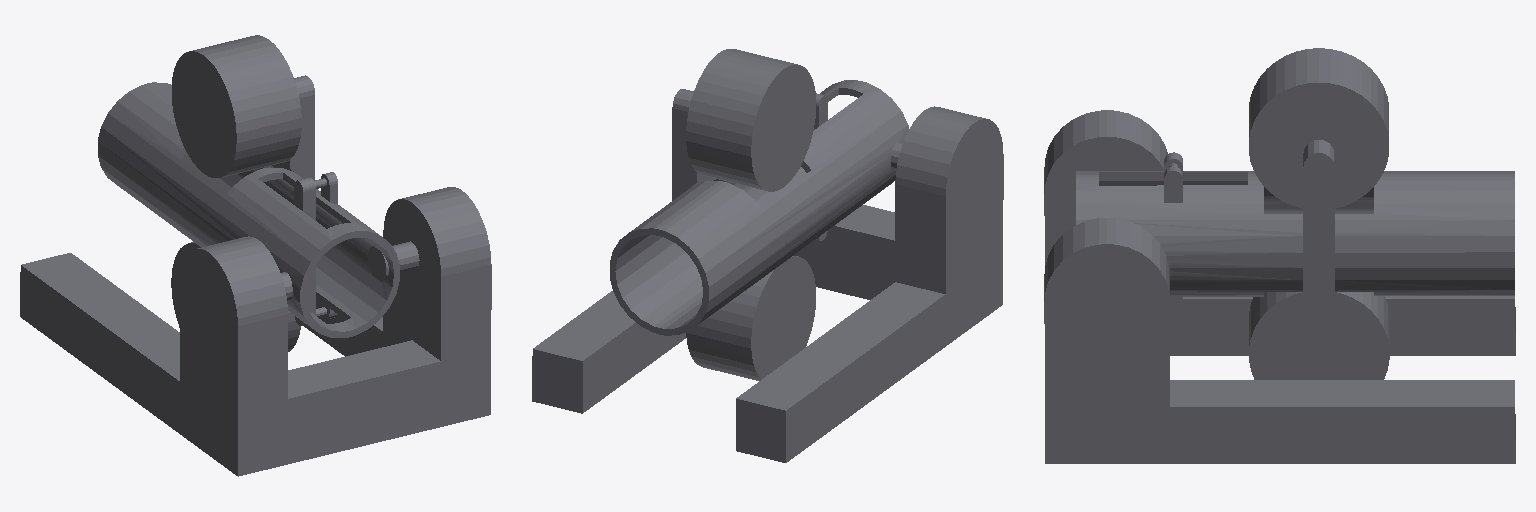
URDF robot description (tennisbot_support):
<?xml version="1.0" encoding="utf-8"?>
<!-- This URDF was automatically created by SolidWorks to URDF Exporter! Originally created by [author] ([email redacted]) 
     Commit Version: 1.6.0-1-g15f4949  Build Version: 1.6.7594.29634
     For more information, please see http://wiki.ros.org/sw_urdf_exporter -->
<robot
  name="tennisbot_support">

  <link name="base_footprint"/>

  <joint name="base_joint" type="fixed">
    <parent link="base_footprint"/>
    <child link="base_link"/>
    <origin xyz="0.0 0.0 -0.162692660283703" rpy="-1.57 0 0"/>
  </joint>

  <link
    name="base_link">
    <inertial>
      <origin
        xyz="0.104659789395195 -0.196207572672501 0.162692660283703"
        rpy="0 0 0" />
      <mass
        value="1.15520000000003" />
      <inertia
        ixx="0.0101215048568796"
        ixy="5.16525795195962E-17"
        ixz="-1.00415010343757E-15"
        iyy="0.0166361512568799"
        iyz="-8.8233065927587E-17"
        izz="0.00682269973333366" />
    </inertial>
    <visual>
      <origin
        xyz="0 0 0"
        rpy="0 0 0" />
      <geometry>
        <mesh
          filename="package://tennisbot_support/meshes/base_link.STL" />
      </geometry>
      <material
        name="">
        <color
          rgba="0.494117647058824 0.494117647058824 0.525490196078431 1" />
      </material>
    </visual>
    <collision>
      <origin
        xyz="0 0 0"
        rpy="0 0 0" />
      <geometry>
        <mesh
          filename="package://tennisbot_support/meshes/base_link.STL" />
      </geometry>
    </collision>
  </link>
  <link
    name="mount_link">
    <inertial>
      <origin
        xyz="4.7805584491023E-10 1.61652830010794E-10 4.26778057338595E-11"
        rpy="0 0 0" />
      <mass
        value="0.744243099298161" />
      <inertia
        ixx="0.00113617129627213"
        ixy="-5.31586880855191E-09"
        ixz="5.94695384178492E-10"
        iyy="0.00541459267764306"
        iyz="4.45684694076088E-05"
        izz="0.00499820875614038" />
    </inertial>
    <visual>
      <origin
        xyz="0 0 0"
        rpy="0 0 0" />
      <geometry>
        <mesh
          filename="package://tennisbot_support/meshes/mount_link.STL" />
      </geometry>
      <material
        name="">
        <color
          rgba="0.494117647058824 0.494117647058824 0.525490196078431 1" />
      </material>
    </visual>
    <collision>
      <origin
        xyz="0 0 0"
        rpy="0 0 0" />
      <geometry>
        <mesh
          filename="package://tennisbot_support/meshes/mount_link.STL" />
      </geometry>
    </collision>
  </link>
  <joint
    name="mount_joint"
    type="fixed">
    <origin
      xyz="0.104659809442308 -0.266871907624069 0.0733480237700171"
      rpy="-1.5707963267949 0 -3.14159265358979" />
    <parent
      link="base_link" />
    <child
      link="mount_link" />
    <axis
      xyz="0 0 0" />
  </joint>
  <link
    name="pipe_link">
    <inertial>
      <origin
        xyz="0.00896336722335153 0.125428985340103 6.43253882881556E-07"
        rpy="0 0 0" />
      <mass
        value="0.33490980168325" />
      <inertia
        ixx="0.00233036766489112"
        ixy="-2.23683208598698E-05"
        ixz="3.26297088153394E-08"
        iyy="0.000666584643212901"
        iyz="-2.27417937656625E-09"
        izz="0.00231739505538052" />
    </inertial>
    <visual>
      <origin
        xyz="0 0 0"
        rpy="0 0 0" />
      <geometry>
        <mesh
          filename="package://tennisbot_support/meshes/pipe_link.STL" />
      </geometry>
      <material
        name="">
        <color
          rgba="0.494117647058824 0.494117647058824 0.525490196078431 1" />
      </material>
    </visual>
    <collision>
      <origin
        xyz="0 0 0"
        rpy="0 0 0" />
      <geometry>
        <mesh
          filename="package://tennisbot_support/meshes/pipe_link.STL" />
      </geometry>
    </collision>
  </link>
  <joint
    name="pipe_joint"
    type="continuous">
    <origin
      xyz="0 -0.00131139551645104 0.0238356650484354"
      rpy="0 0 3.14159265358979" />
    <parent
      link="mount_link" />
    <child
      link="pipe_link" />
    <axis
      xyz="1 0 0" />
  </joint>
  <link
    name="top_wheel_link">
    <inertial>
      <origin
        xyz="-0.00100002004712066 1.11022302462516E-16 0"
        rpy="0 0 0" />
      <mass
        value="0.328195901335219" />
      <inertia
        ixx="0.000334923917312591"
        ixy="-2.8951321439356E-21"
        ixz="1.98595160072015E-37"
        iyy="0.000241415435090498"
        iyz="1.90864757447969E-20"
        izz="0.000241415435090498" />
    </inertial>
    <visual>
      <origin
        xyz="0 0 0"
        rpy="0 0 0" />
      <geometry>
        <mesh
          filename="package://tennisbot_support/meshes/top_wheel_link.STL" />
      </geometry>
      <material
        name="">
        <color
          rgba="0.494117647058824 0.494117647058824 0.525490196078431 1" />
      </material>
    </visual>
    <collision>
      <origin
        xyz="0 0 0"
        rpy="0 0 0" />
      <geometry>
        <mesh
          filename="package://tennisbot_support/meshes/top_wheel_link.STL" />
      </geometry>
    </collision>
  </link>
  <joint
    name="top_wheel_joint"
    type="continuous">
    <origin
      xyz="0 0.135000000000007 0.0729999999999982"
      rpy="0 0 0" />
    <parent
      link="pipe_link" />
    <child
      link="top_wheel_link" />
    <axis
      xyz="1 0 0" />
  </joint>
  <link
    name="bot_wheel_link">
    <inertial>
      <origin
        xyz="-0.00100002004712063 1.11022302462516E-16 -2.77555756156289E-17"
        rpy="0 0 0" />
      <mass
        value="0.328195901335218" />
      <inertia
        ixx="0.00033492391731259"
        ixy="5.16987882845613E-24"
        ixz="0"
        iyy="0.000241415435090498"
        iyz="-6.16639985601131E-20"
        izz="0.000241415435090498" />
    </inertial>
    <visual>
      <origin
        xyz="0 0 0"
        rpy="0 0 0" />
      <geometry>
        <mesh
          filename="package://tennisbot_support/meshes/bot_wheel_link.STL" />
      </geometry>
      <material
        name="">
        <color
          rgba="0.494117647058824 0.494117647058824 0.525490196078431 1" />
      </material>
    </visual>
    <collision>
      <origin
        xyz="0 0 0"
        rpy="0 0 0" />
      <geometry>
        <mesh
          filename="package://tennisbot_support/meshes/bot_wheel_link.STL" />
      </geometry>
    </collision>
  </link>
  <joint
    name="bot_wheel_joint"
    type="continuous">
    <origin
      xyz="0 0.135000000000007 -0.0730000000000018"
      rpy="0 0 0" />
    <parent
      link="pipe_link" />
    <child
      link="bot_wheel_link" />
    <axis
      xyz="1 0 0" />
  </joint>
  <link
    name="top_trigger_link">
    <inertial>
      <origin
        xyz="4.69069227904129E-15 0.0206229180482504 -2.00471154815363E-08"
        rpy="0 0 0" />
      <mass
        value="0.00556274333882309" />
      <inertia
        ixx="1.09230824358136E-06"
        ixy="1.01134519225253E-20"
        ixz="1.08213016457071E-22"
        iyy="1.14169402076655E-07"
        iyz="1.15899847888608E-22"
        izz="1.11376525667763E-06" />
    </inertial>
    <visual>
      <origin
        xyz="0 0 0"
        rpy="0 0 0" />
      <geometry>
        <mesh
          filename="package://tennisbot_support/meshes/top_trigger_link.STL" />
      </geometry>
      <material
        name="">
        <color
          rgba="0.494117647058824 0.494117647058824 0.525490196078431 1" />
      </material>
    </visual>
    <collision>
      <origin
        xyz="0 0 0"
        rpy="0 0 0" />
      <geometry>
        <mesh
          filename="package://tennisbot_support/meshes/top_trigger_link.STL" />
      </geometry>
    </collision>
  </link>
  <joint
    name="top_trigger_joint"
    type="continuous">
    <origin
      xyz="0 0.0423000000000067 0.0489999999999982"
      rpy="-1.57079632679491 0 -1.5707963267949" />
    <parent
      link="pipe_link" />
    <child
      link="top_trigger_link" />
    <axis
      xyz="0 0 1" />
  </joint>
  <link
    name="bot_trigger_link">
    <inertial>
      <origin
        xyz="3.66373598126302E-15 0.0206229180482504 -2.00471244188316E-08"
        rpy="0 0 0" />
      <mass
        value="0.00556274333882308" />
      <inertia
        ixx="1.09230824358135E-06"
        ixy="2.8824254188511E-21"
        ixz="-6.88875669628211E-23"
        iyy="1.14169402076654E-07"
        iyz="1.80420167957529E-22"
        izz="1.11376525667762E-06" />
    </inertial>
    <visual>
      <origin
        xyz="0 0 0"
        rpy="0 0 0" />
      <geometry>
        <mesh
          filename="package://tennisbot_support/meshes/bot_trigger_link.STL" />
      </geometry>
      <material
        name="">
        <color
          rgba="0.494117647058824 0.494117647058824 0.525490196078431 1" />
      </material>
    </visual>
    <collision>
      <origin
        xyz="0 0 0"
        rpy="0 0 0" />
      <geometry>
        <mesh
          filename="package://tennisbot_support/meshes/bot_trigger_link.STL" />
      </geometry>
    </collision>
  </link>
  <joint
    name="bot_trigger_joint"
    type="continuous">
    <origin
      xyz="0 0.0423000000000067 -0.0490000000000018"
      rpy="1.57079632679488 0 1.5707963267949" />
    <parent
      link="pipe_link" />
    <child
      link="bot_trigger_link" />
    <axis
      xyz="0 0 1" />
  </joint>
</robot>

--- What the picture shows (computed from the rendered views, not written in the file) ---
The picture shows the robot from 3 angles, left to right: view 1: azimuth 30°, elevation 25°; view 2: azimuth 150°, elevation 25°; view 3: azimuth 270°, elevation 25°; orthographic projection.
Robot: tennisbot_support — 8 links, 7 joints (5 continuous, 2 fixed); root link base_footprint; default pose: all joints at 0.
Links seen in each view (by area): view 1: mount_link, base_link, pipe_link, top_wheel_link, bot_wheel_link, top_trigger_link; view 2: base_link, pipe_link, mount_link, top_wheel_link, bot_wheel_link; view 3: pipe_link, base_link, mount_link, top_wheel_link, bot_wheel_link.
Boxes of the visible links, left/top/right/bottom form: mount_link: left=180, top=187, right=491, bottom=423; base_link: left=20, top=253, right=490, bottom=476; pipe_link: left=98, top=75, right=399, bottom=337; top_wheel_link: left=172, top=35, right=301, bottom=177; bot_wheel_link: left=171, top=242, right=300, bottom=351; top_trigger_link: left=294, top=177, right=315, bottom=220; base_link: left=532, top=237, right=1002, bottom=462; pipe_link: left=610, top=80, right=908, bottom=335; mount_link: left=826, top=106, right=1003, bottom=293; top_wheel_link: left=686, top=49, right=815, bottom=191; bot_wheel_link: left=686, top=256, right=815, bottom=380; pipe_link: left=1076, top=140, right=1514, bottom=379; base_link: left=1045, top=296, right=1515, bottom=463; mount_link: left=1044, top=110, right=1169, bottom=406; top_wheel_link: left=1249, top=48, right=1388, bottom=208; bot_wheel_link: left=1249, top=292, right=1389, bottom=379.
Size in the robot's own frame: 0.202 by 0.3001 by 0.236 metres.
Meshes: 7 distinct files referenced, 7 mesh visuals loaded (7 binary STL).